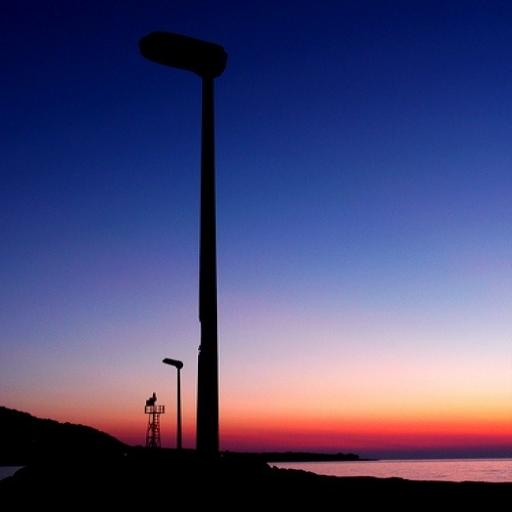off street light: (136, 26, 230, 452), (161, 356, 184, 448)
